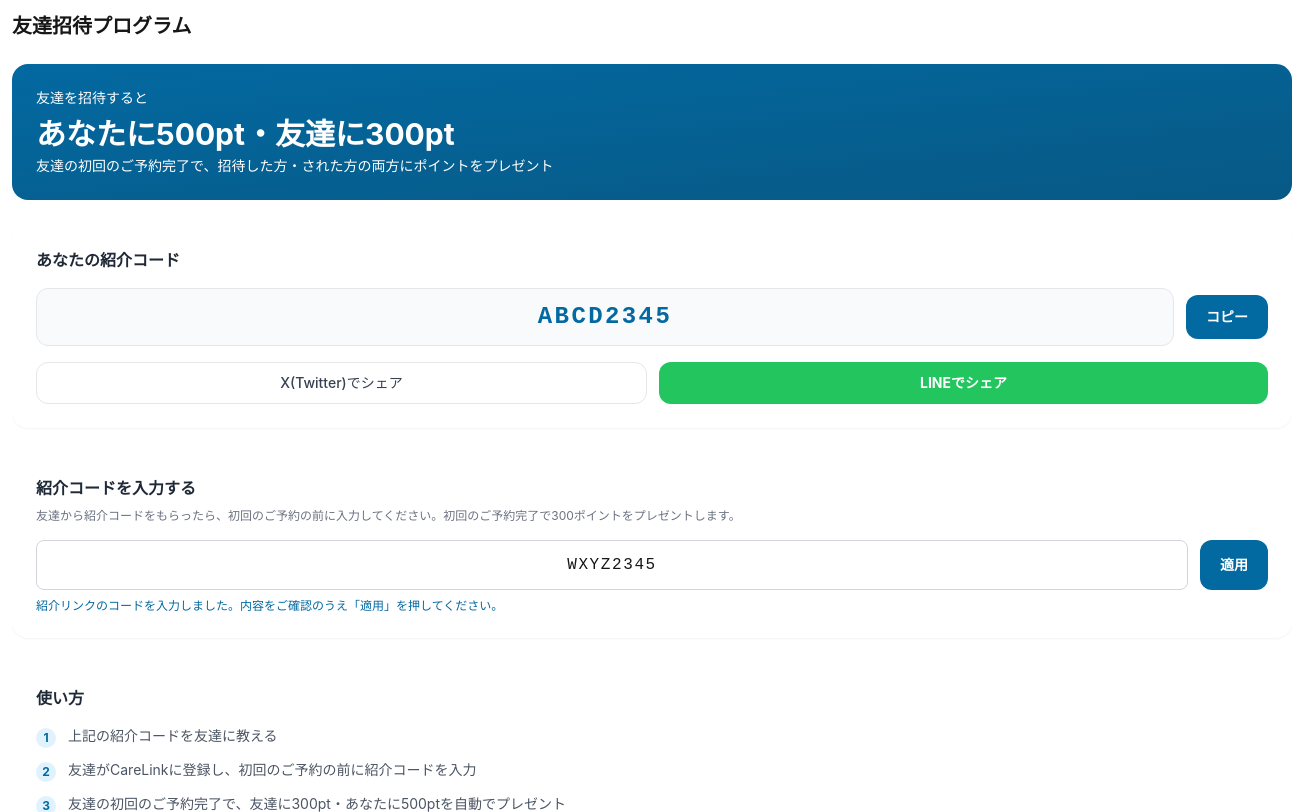
it: 共有リンク（?ref=）のコードを入力欄へ入れる › 適用に成功したら入力欄と案内を閉じる
This screenshot has width=1292, height=812.
Expected: the text "紹介リンクのコードを入力しました。内容をご確認のうえ「適用」を押してください。" is shown, 36,598 -> 503,613
Click the button "適用": coordinates (1234, 565) 1200,540 -> 1268,590
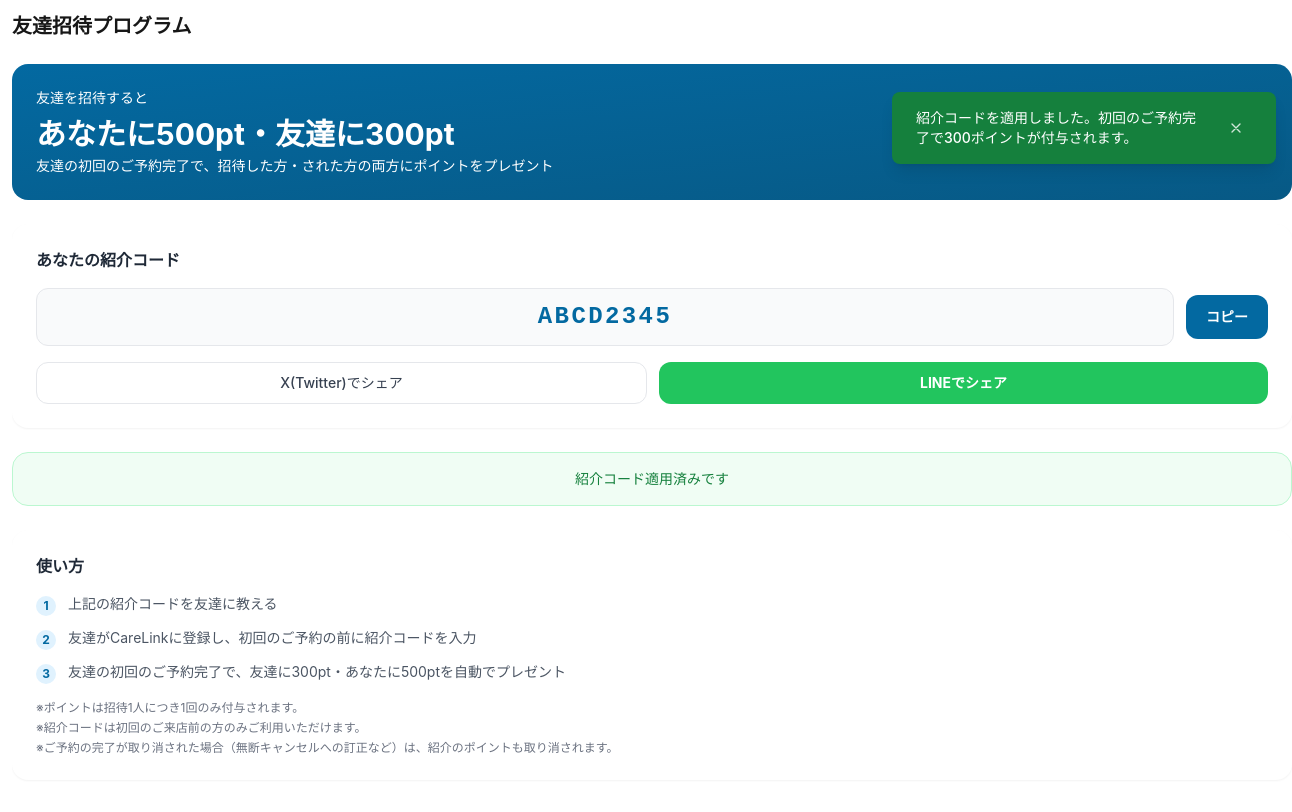
Now the text "紹介コード適用済みです" is shown, box 575,470 -> 729,487
Now the text "紹介リンクのコードを入力しました。内容をご確認のうえ「適用」を押してください。" is gone
